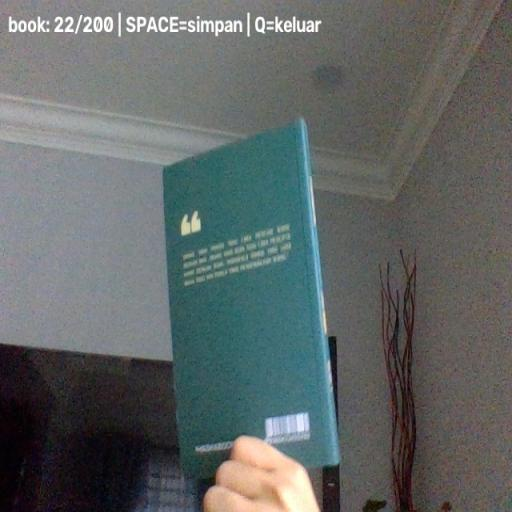Book: (163, 117, 340, 479)
